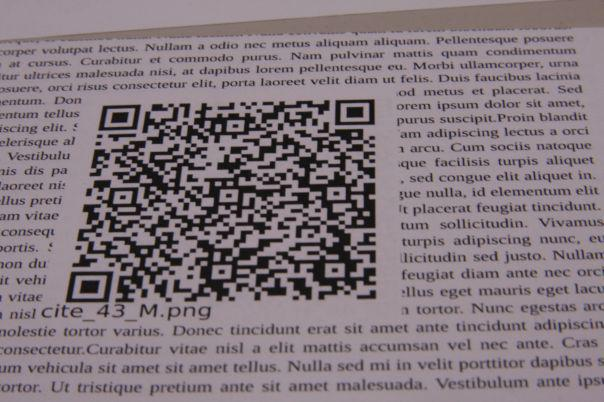Finder pattern: (62, 269, 117, 309), (331, 96, 380, 129), (98, 103, 144, 133)
